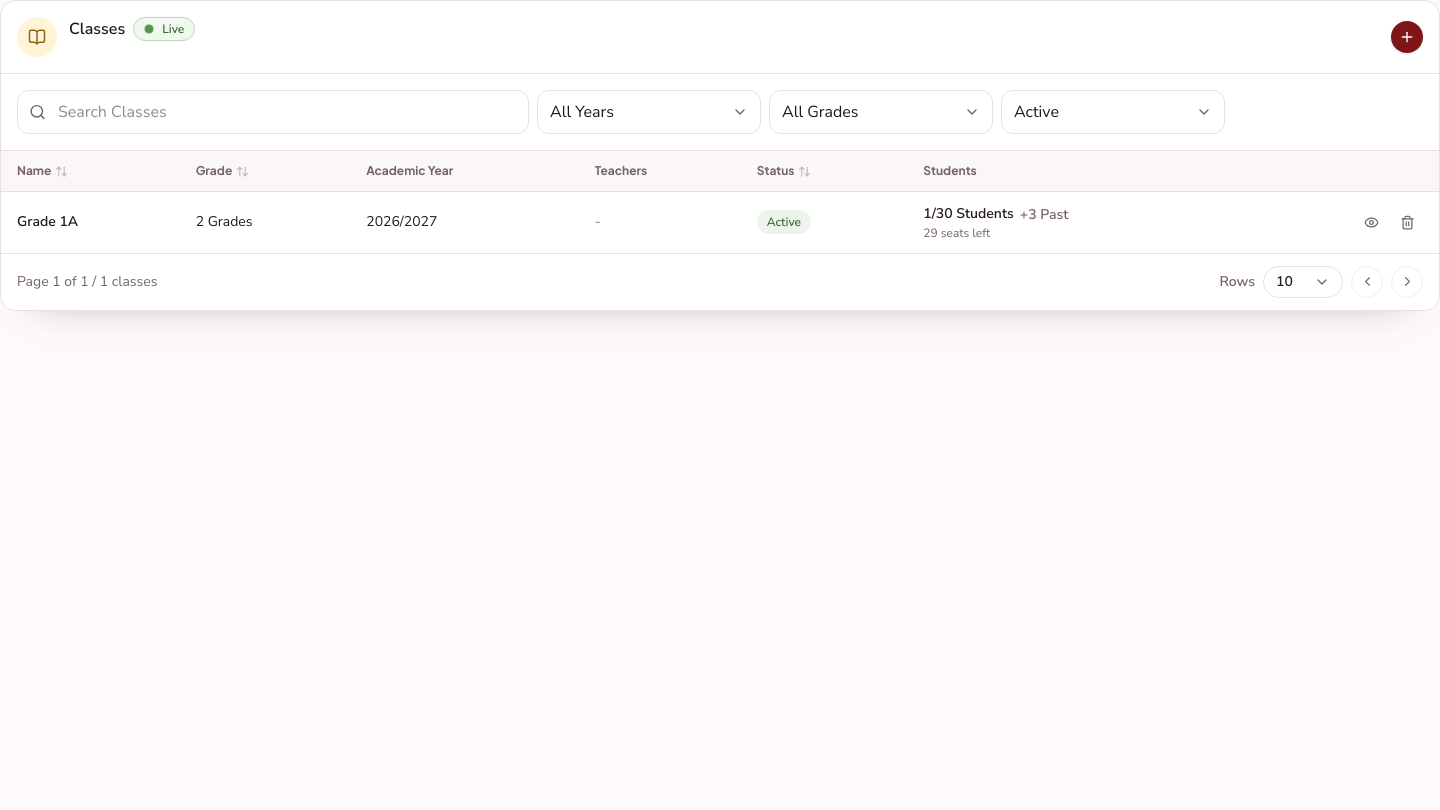
it: ClassesPanel › names every grade of a mixed class and opens how past students left
This screenshot has width=1440, height=810.
Step 1. Click the button "2 Grades" → (224, 222), box top-left (196, 212), bottom-right (253, 232)
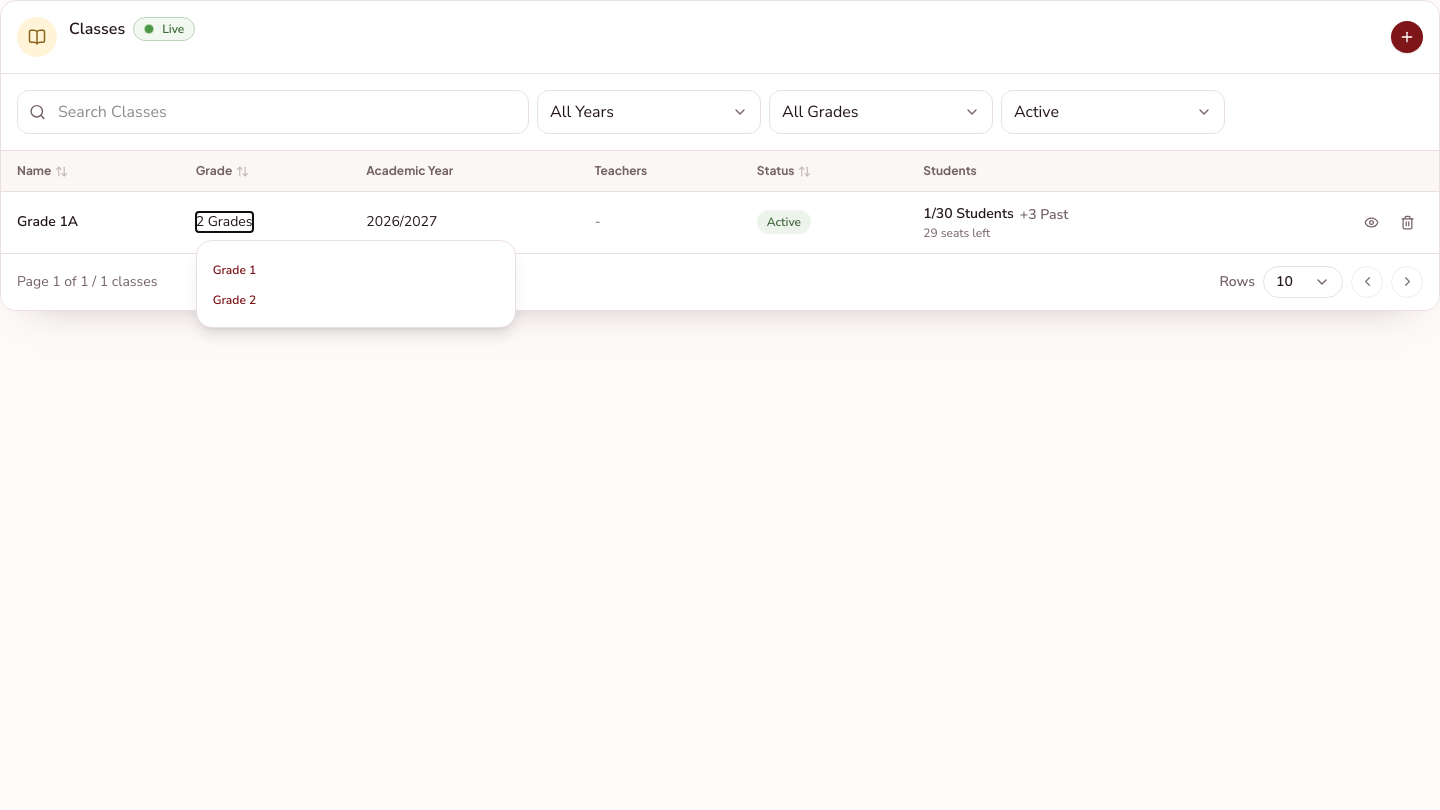
Expected: the text "Grade 2" is shown, top-left (213, 292), bottom-right (256, 308)
Step 2. Press Escape
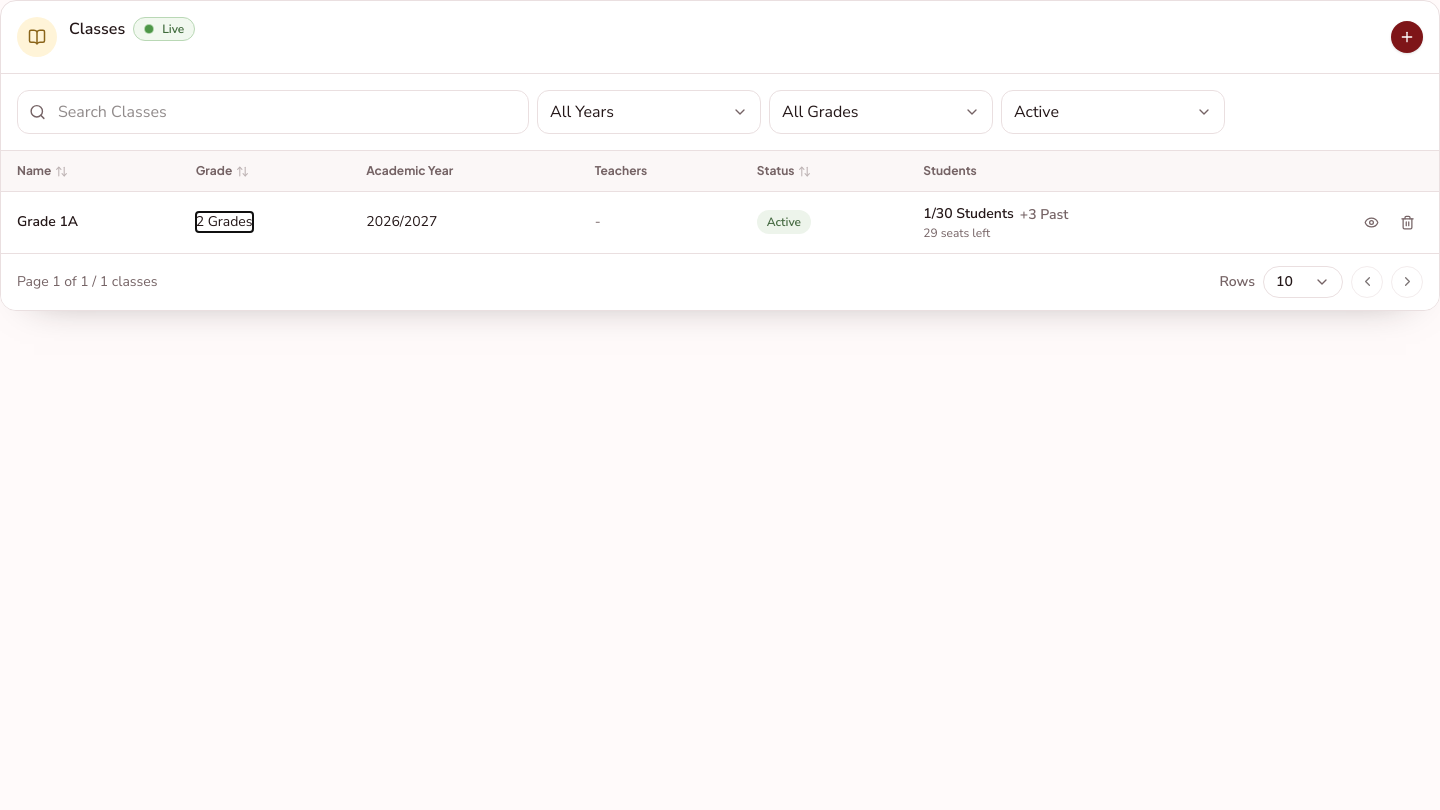
Step 3. Click the button "+3 Past" → (1044, 215), box top-left (1020, 205), bottom-right (1068, 225)
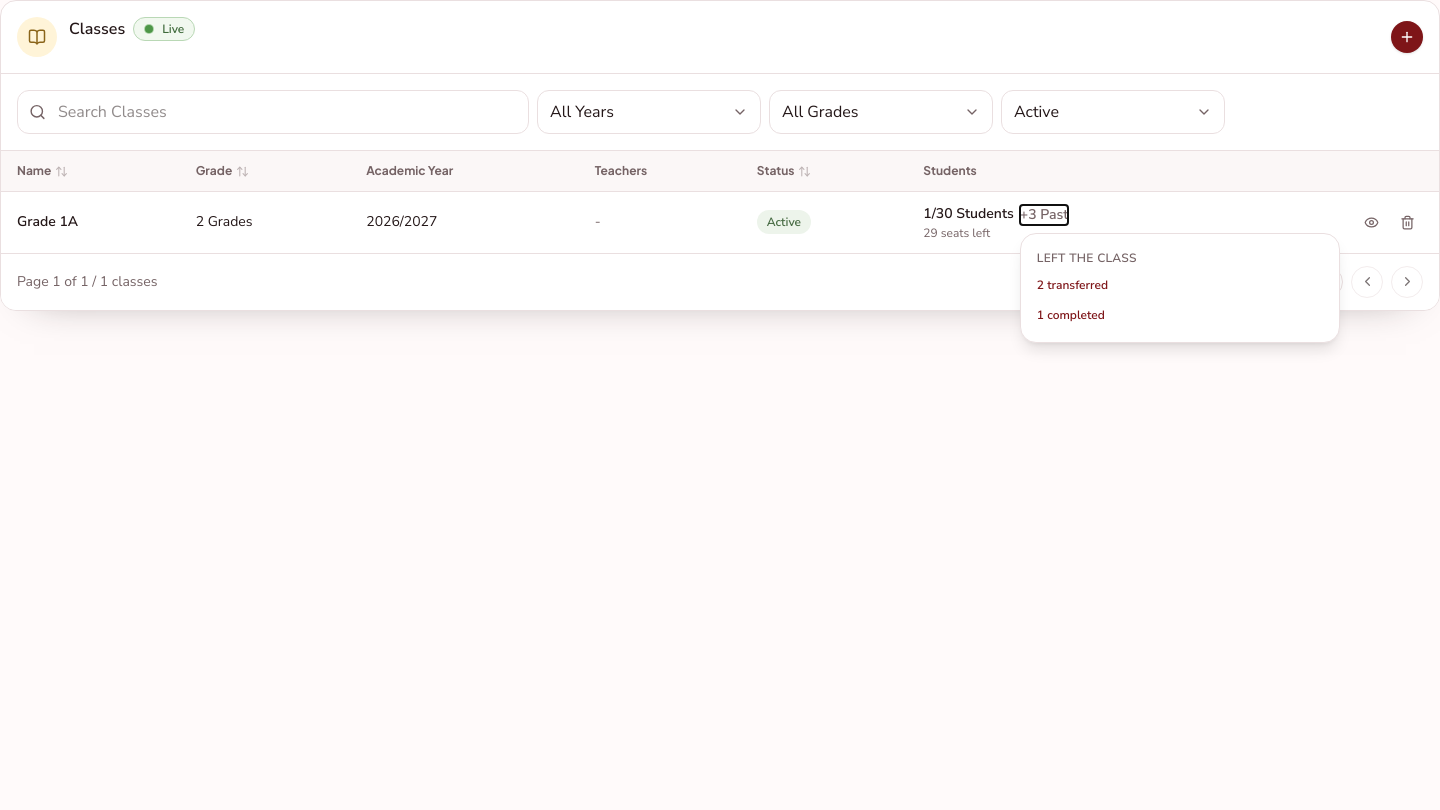
Expected: the text "2 transferred" is shown, top-left (1037, 277), bottom-right (1108, 293)
Expected: the text "1 completed" is shown, top-left (1037, 307), bottom-right (1105, 323)
